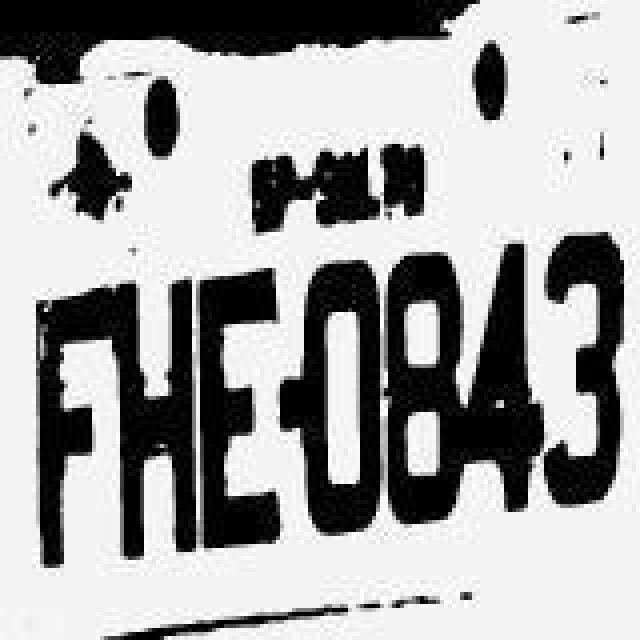3: (544, 224, 624, 520)
4: (462, 238, 546, 522)
8: (392, 232, 472, 504)
E: (210, 270, 302, 554)
F: (56, 296, 136, 592)
H: (132, 282, 220, 566)
O: (312, 246, 392, 522)
